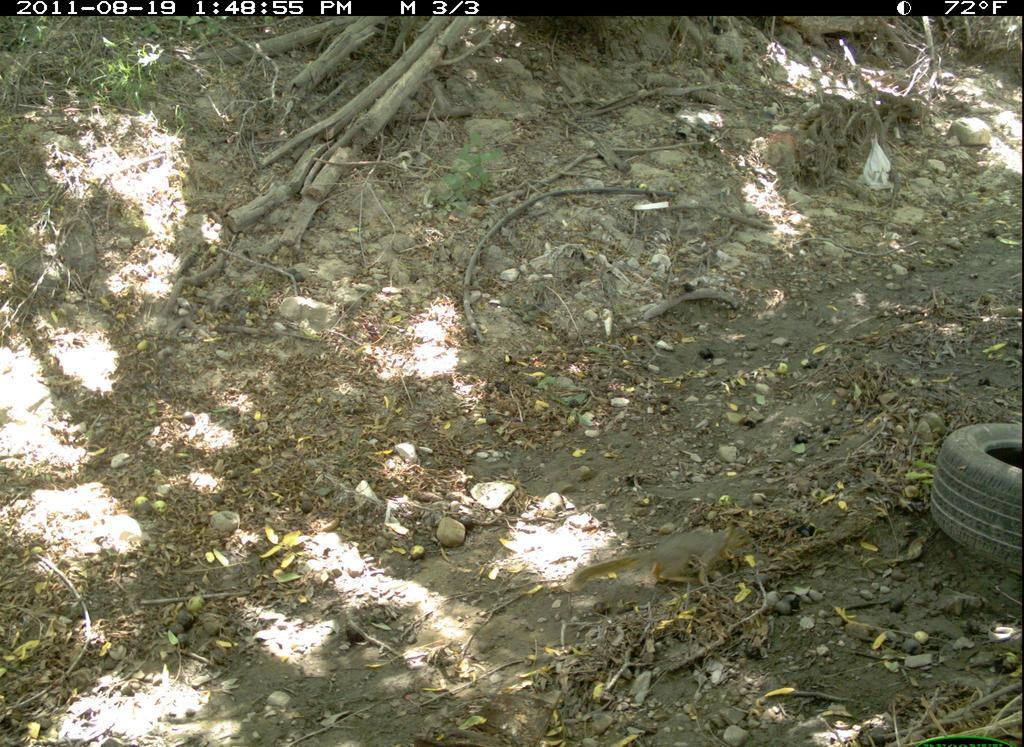squirrel: (562, 520, 753, 601)
